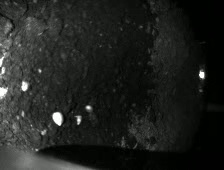corn: (49, 109, 65, 127), (18, 78, 31, 93), (72, 114, 84, 126), (84, 103, 95, 114)
